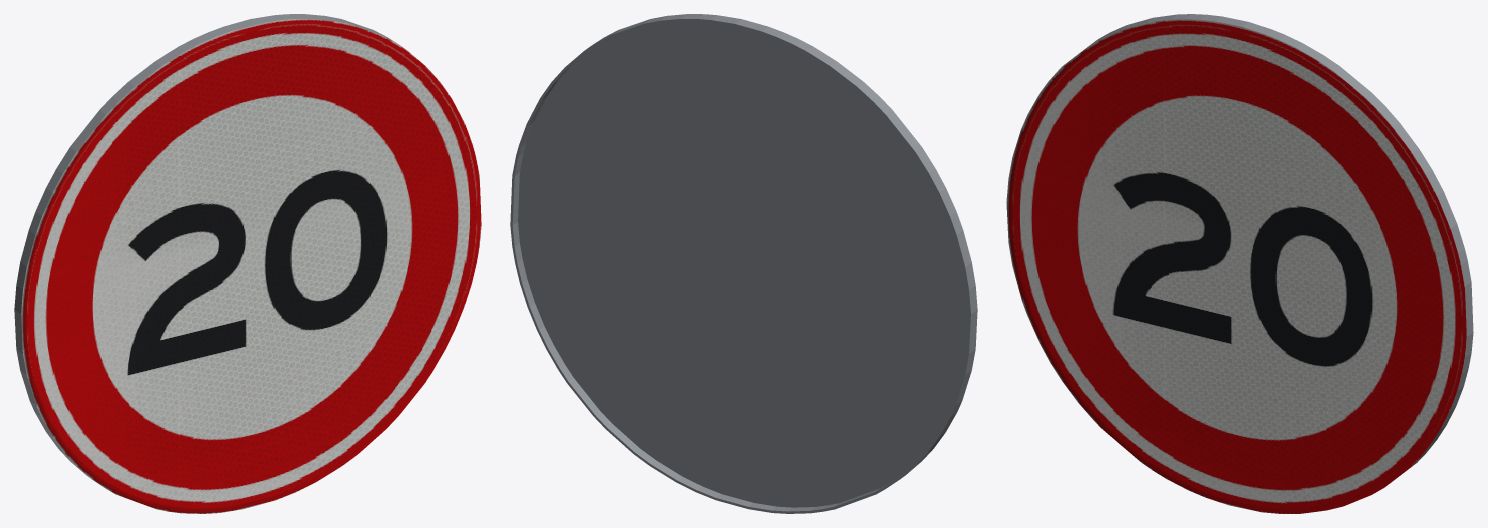
3 renders of one model, left to right at view 1: azimuth 30°, elevation 25°; view 2: azimuth 150°, elevation 25°; view 3: azimuth 330°, elevation 25°, orthographic.
Parts seen in each view (by area): view 1: cat_c9ed3bb12485acf7; view 2: cat_c9ed3bb12485acf7; view 3: cat_c9ed3bb12485acf7.
Part boxes in pixels (x1=…): cat_c9ed3bb12485acf7: x1=14, y1=14, x2=481, y2=513; cat_c9ed3bb12485acf7: x1=510, y1=14, x2=977, y2=513; cat_c9ed3bb12485acf7: x1=1006, y1=14, x2=1473, y2=513.
Bounding box in the file's own units: 0.6 × 0.015 × 0.6.
2 materials, 1 textured.
